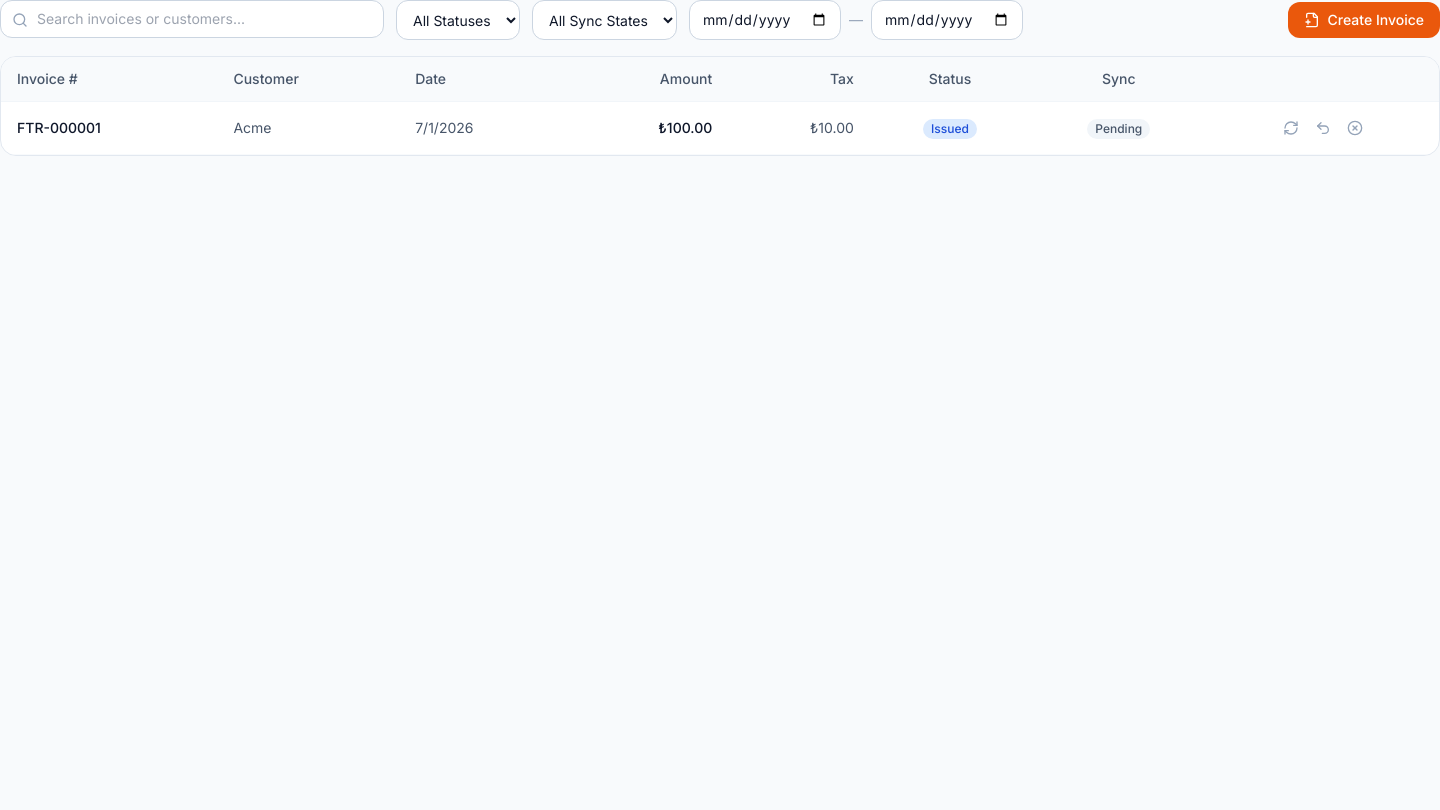
Test case: InvoicesPanel — detail drawer (D3) › opens the drawer with the invoice details when a row is clicked
Step 1. Click the text "FTR-000001" → (59, 128), box [17,118,101,138]
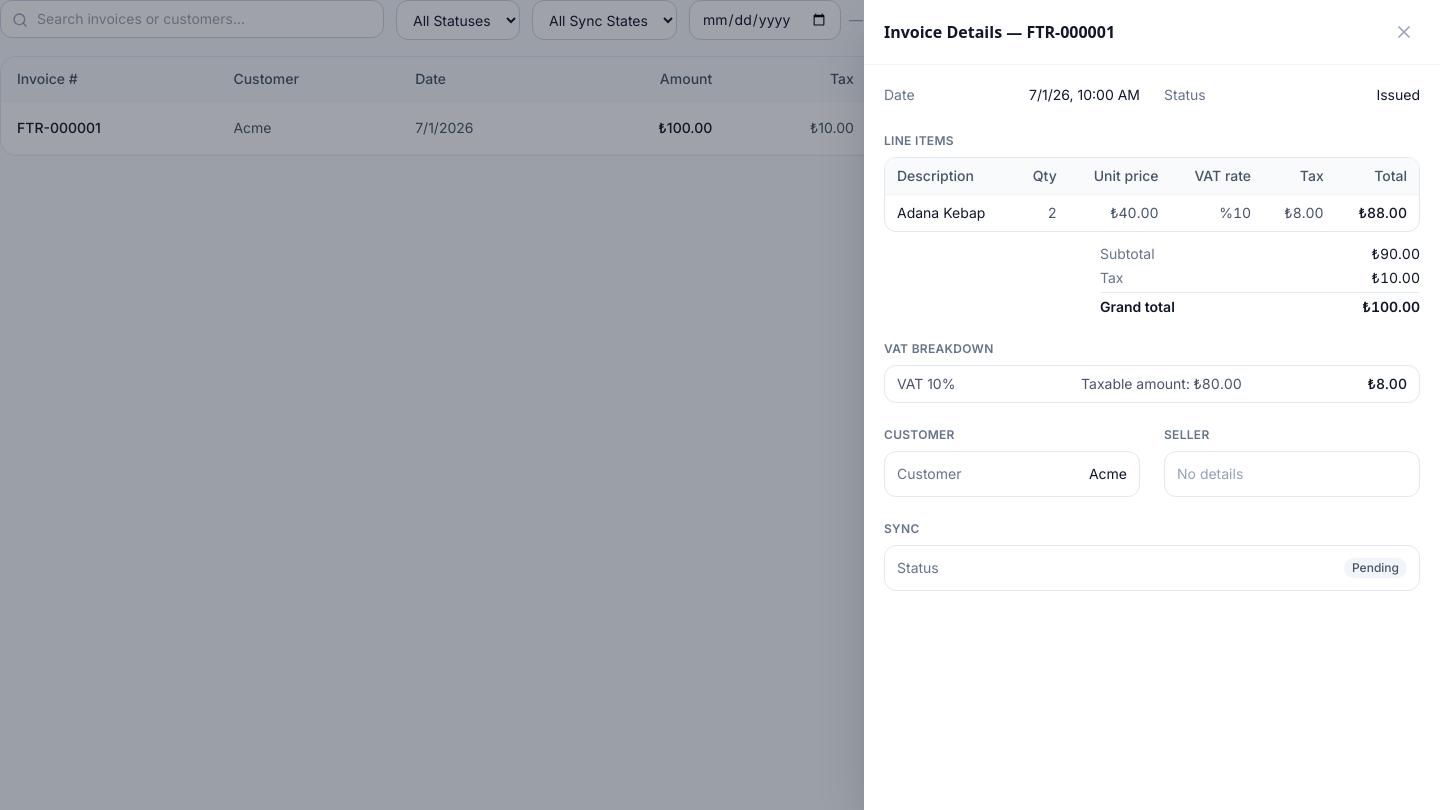
Expected: the heading "Invoice Details — FTR-000001" is shown, [884,20,1115,44]
Expected: the text "Adana Kebap" is shown, [885,194,1014,231]
